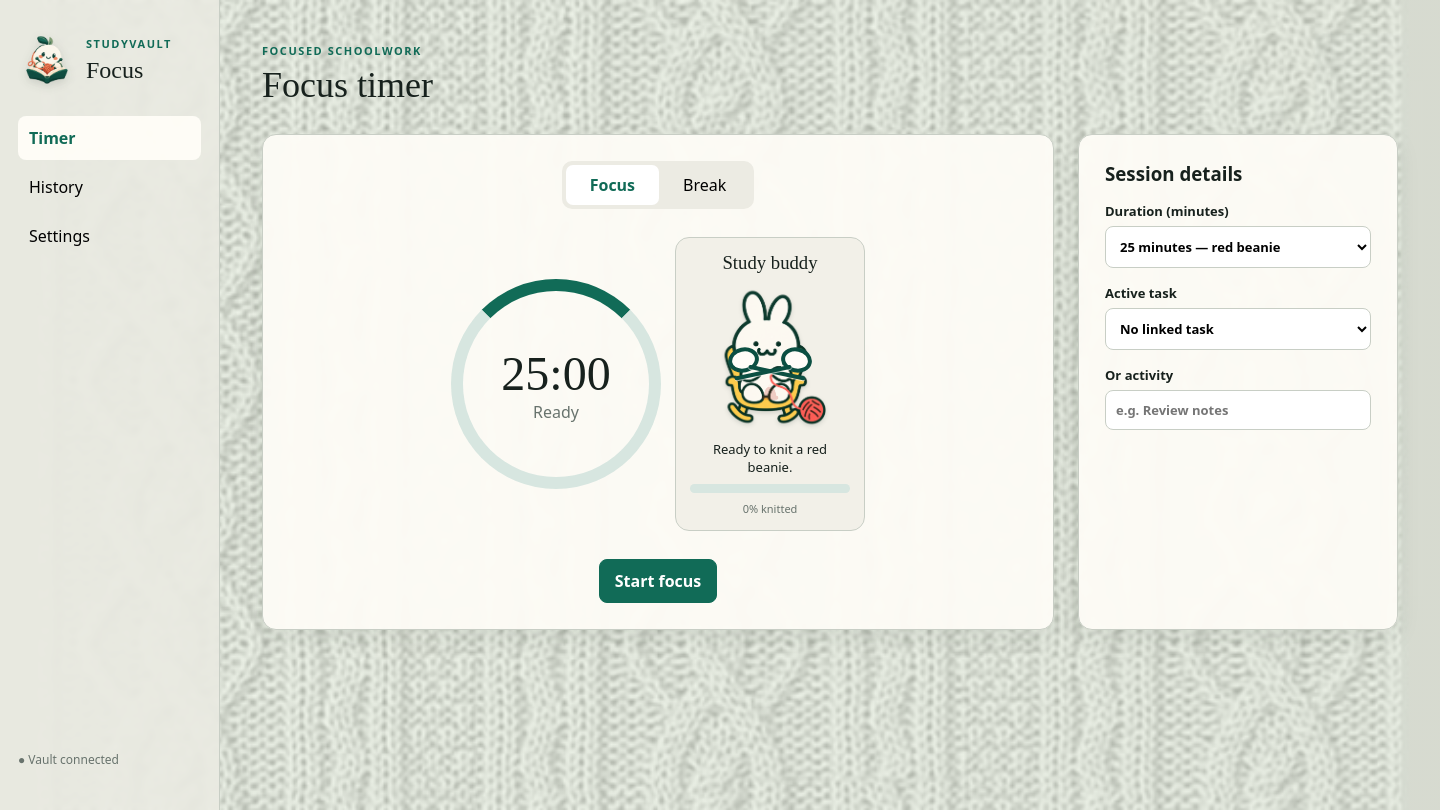
StudyVault Focus interface › offers the three garment-linked focus durations
This screenshot has width=1440, height=810.
Step 1. Select "35 minutes — orange scarf" in the dropdown labelled "Duration (minutes)" → [1238, 247], box top-left (1105, 226), bottom-right (1371, 268)
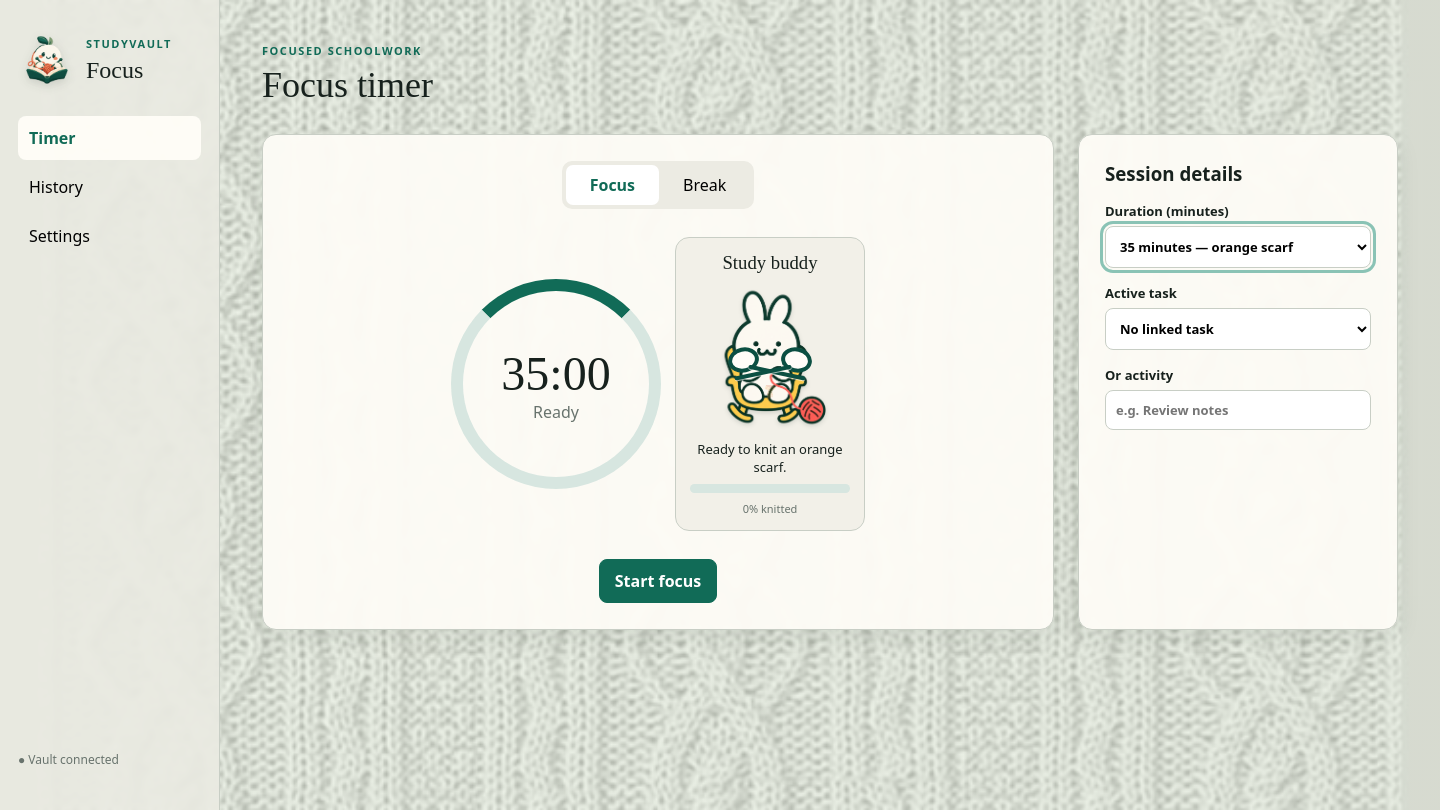
expect the text "35:00" is shown: met, box top-left (501, 346), bottom-right (611, 400)
expect the text "Ready to knit an orange scarf." is shown: met, box top-left (690, 440), bottom-right (850, 476)
